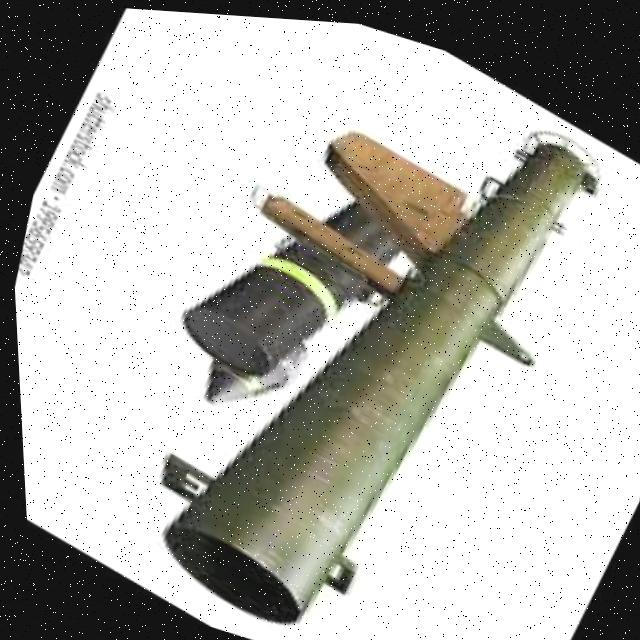rocket: (48, 3, 640, 640)
